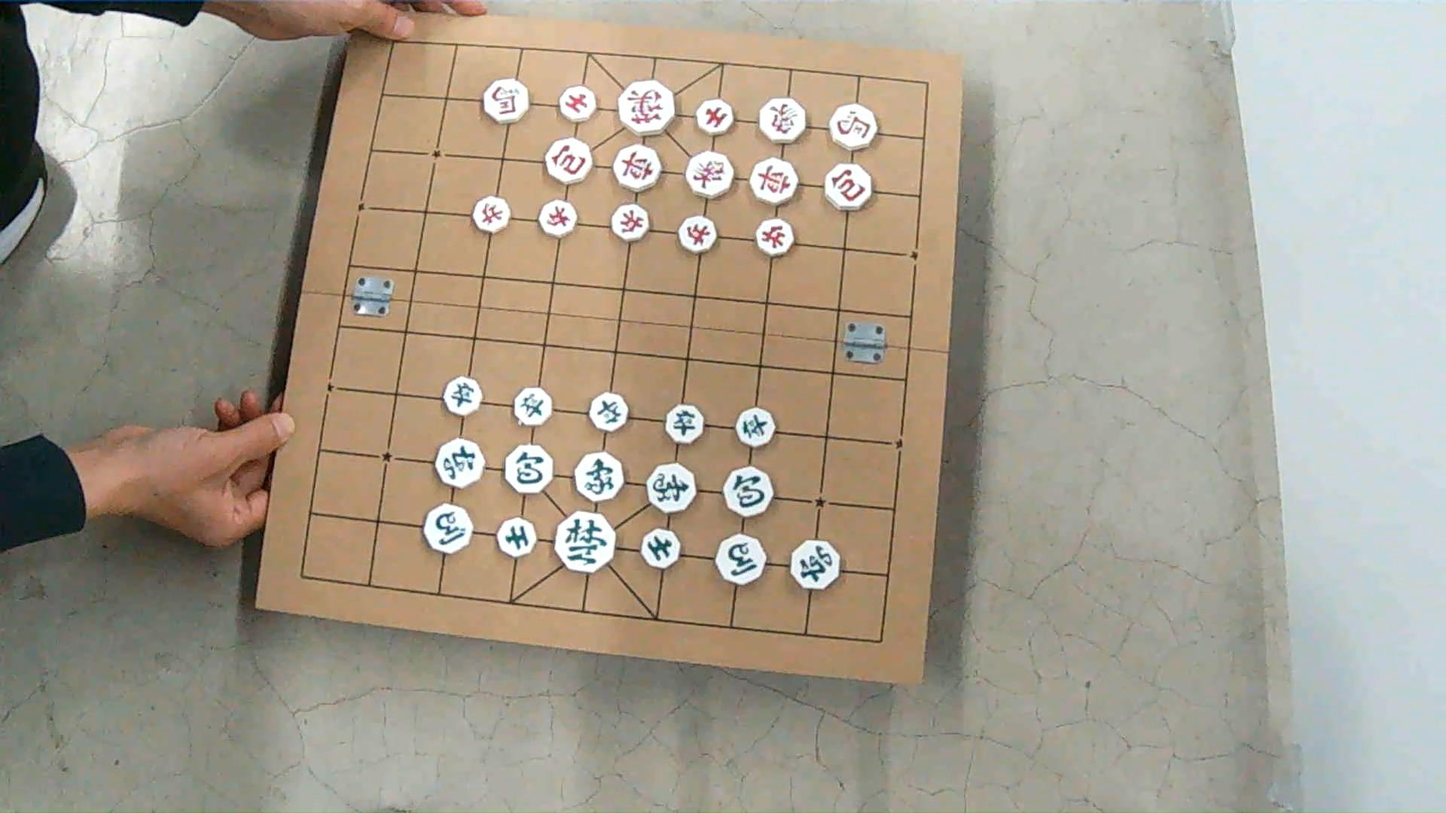cha_green: (791, 540, 840, 589), (435, 438, 483, 488)
cha_red: (750, 158, 797, 205), (613, 145, 660, 191)
jol_green: (665, 405, 703, 444), (737, 407, 774, 447), (444, 376, 480, 416), (590, 393, 627, 431), (514, 388, 551, 426)
jol_red: (756, 218, 794, 255), (472, 196, 509, 233), (538, 200, 575, 237), (679, 216, 716, 252), (612, 204, 648, 241)
ma_green: (424, 504, 472, 553), (716, 535, 764, 584)
ma_red: (828, 104, 877, 150), (483, 79, 529, 123)
po_green: (725, 467, 773, 516), (505, 444, 552, 493)
po_red: (825, 164, 871, 210), (545, 139, 590, 184)
sa_green: (498, 517, 536, 557), (642, 529, 679, 568)
sa_red: (696, 99, 733, 135), (559, 86, 596, 122)
sang_green: (574, 452, 623, 501), (646, 464, 695, 513)
sang_red: (685, 151, 733, 198), (758, 99, 805, 143)
wang_green: (555, 510, 615, 573)
wang_red: (618, 80, 674, 135)
